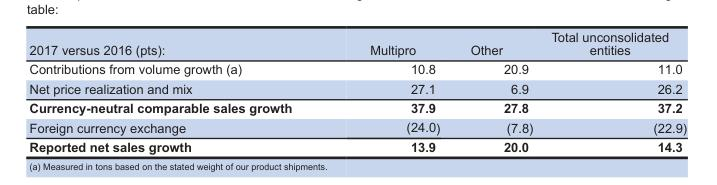table: (28, 29, 686, 153)
table column: (28, 29, 330, 153), (541, 29, 686, 153), (330, 29, 454, 153), (454, 29, 541, 153)
table column header: (28, 29, 686, 59)
table row: (28, 29, 686, 59), (28, 97, 686, 117), (28, 59, 686, 78), (28, 78, 686, 97), (28, 117, 686, 136), (28, 136, 686, 153)
